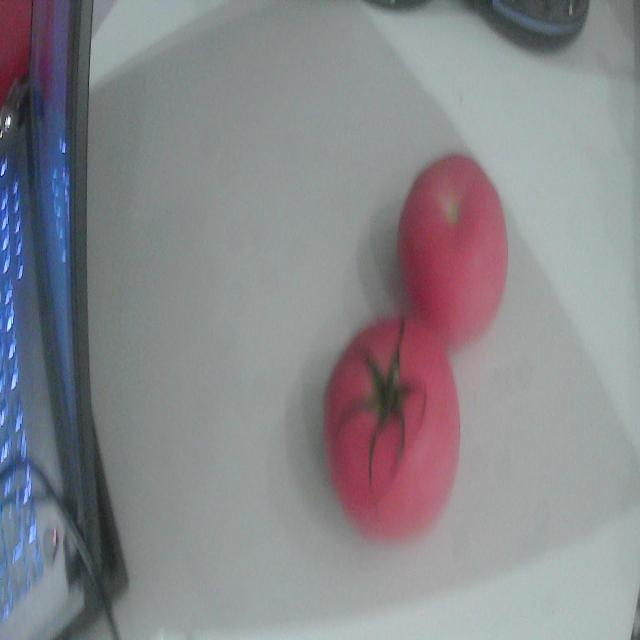Tomato: (324, 321, 459, 539), (398, 155, 508, 349)
